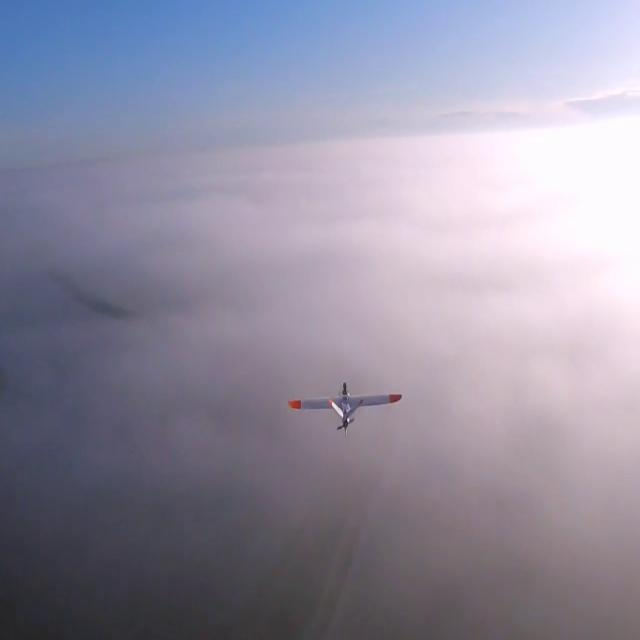iha: (318, 381, 372, 443)
